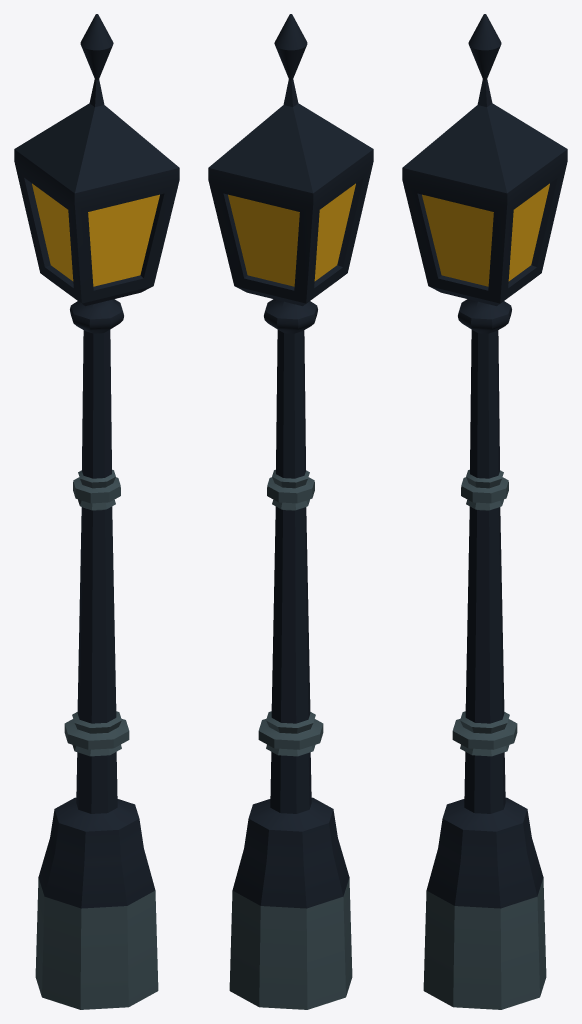
The model's file is PosteVila2.fbx.
3 views of the same model, side by side, from view 1: azimuth 30°, elevation 25°; view 2: azimuth 150°, elevation 25°; view 3: azimuth 330°, elevation 25° (orthographic).
Visible parts, largest first — view 1: Cylinder.010; view 2: Cylinder.010; view 3: Cylinder.010.
Part boxes in pixels (box(x1,y1,x2,y2)): Cylinder.010: box(14, 14, 179, 1009); Cylinder.010: box(208, 14, 373, 1009); Cylinder.010: box(402, 14, 567, 1009).
Bounding box in the file's own units: 0.2527 × 2.13 × 0.2527.
